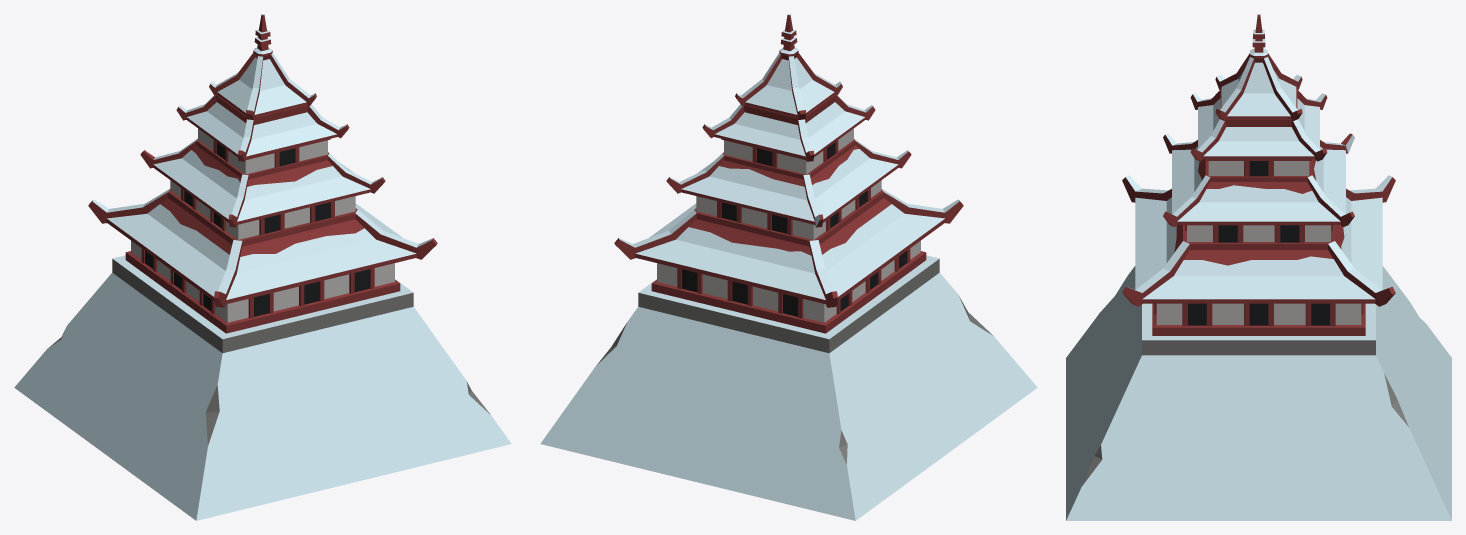
File: SM_Bld_Samurai_Temple_02_Snow.fbx
3 renders of one model, left to right at view 1: azimuth 30°, elevation 25°; view 2: azimuth 150°, elevation 25°; view 3: azimuth 270°, elevation 25°, orthographic. The views are drawn at different scales.
Parts seen in each view (by area): view 1: SM_Bld_Samurai_Temple_02_Snow; view 2: SM_Bld_Samurai_Temple_02_Snow; view 3: SM_Bld_Samurai_Temple_02_Snow.
Part boxes in pixels (x1,y1,x2,y2): SM_Bld_Samurai_Temple_02_Snow: [14, 14, 511, 520]; SM_Bld_Samurai_Temple_02_Snow: [540, 14, 1037, 520]; SM_Bld_Samurai_Temple_02_Snow: [1066, 14, 1451, 520].
Bounding box in the file's own units: 305 × 370 × 305.
Materials: 1 (1 with a texture image).
